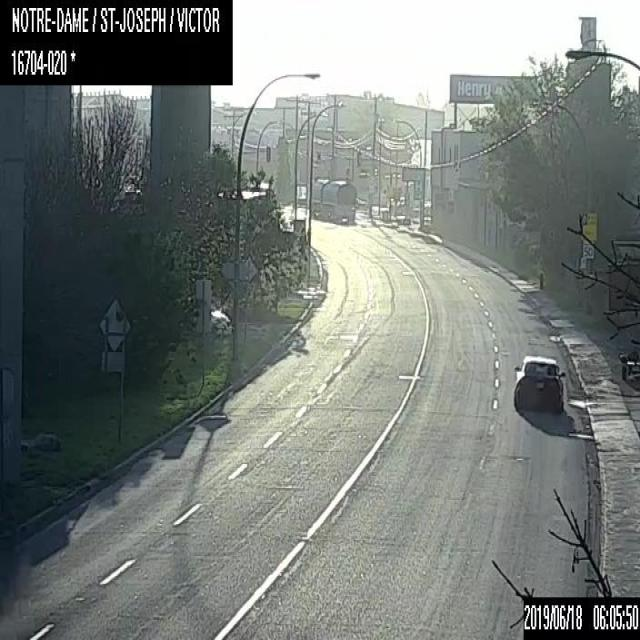construction: (607, 234, 639, 381)
vehicle: (512, 353, 566, 412), (310, 176, 356, 223)
